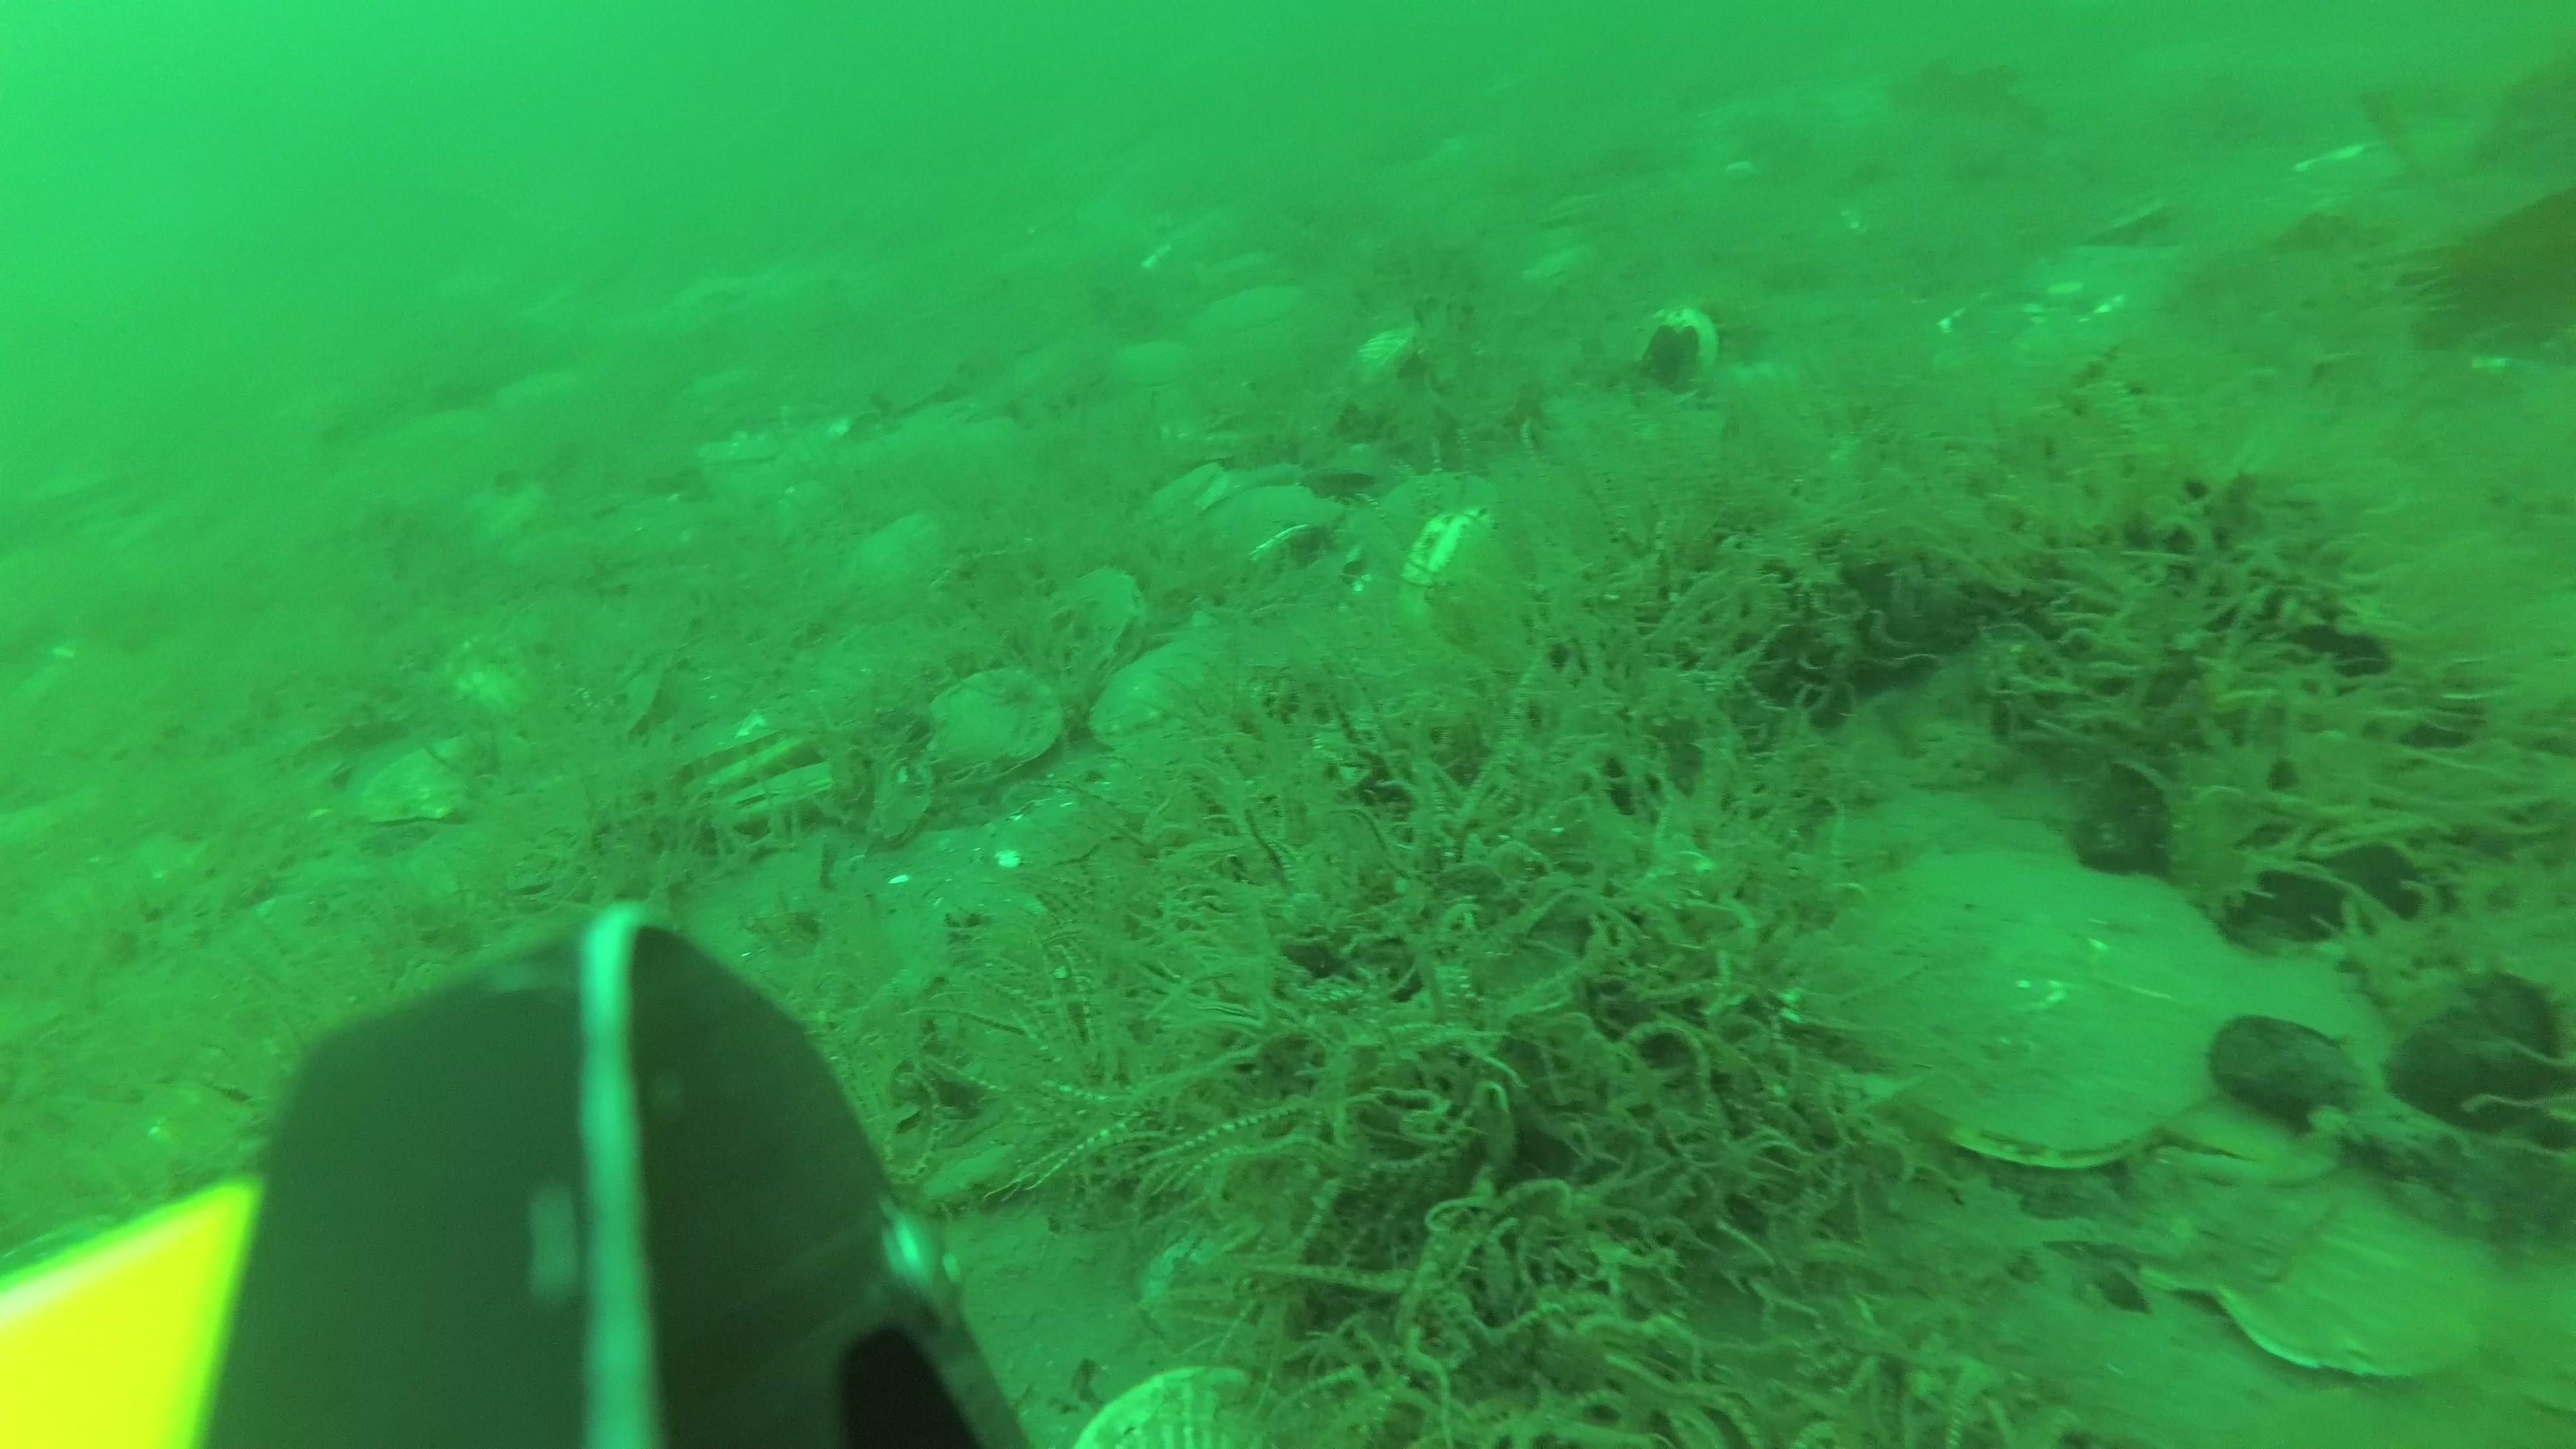scallop: (1829, 851, 2245, 1175), (2226, 1161, 2502, 1371), (2098, 1069, 2373, 1258), (2155, 964, 2399, 1159), (1139, 1217, 1311, 1364), (1062, 1362, 1281, 1449), (915, 672, 1063, 789), (363, 722, 518, 828), (1366, 460, 1514, 563), (706, 763, 867, 855), (1085, 637, 1223, 743), (1028, 563, 1139, 690), (1189, 487, 1346, 575), (833, 522, 964, 621), (667, 725, 809, 796), (1139, 462, 1240, 540), (1343, 320, 1426, 409), (1189, 283, 1295, 350), (1106, 333, 1205, 389)
